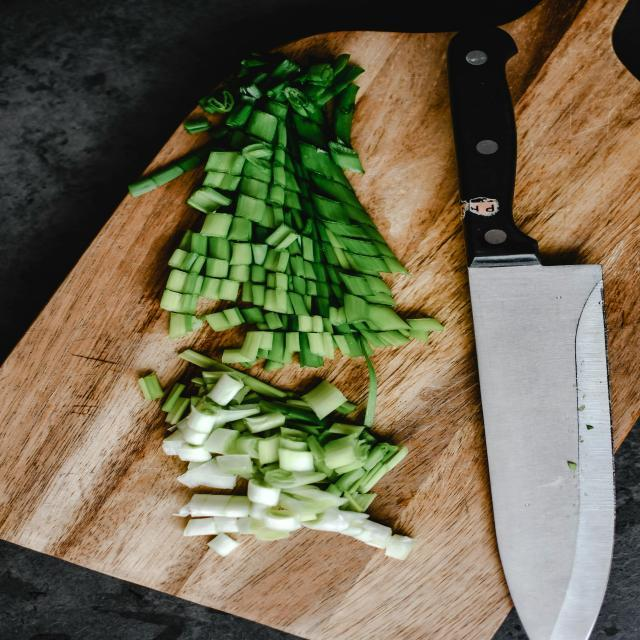knife: (447, 21, 616, 640)
